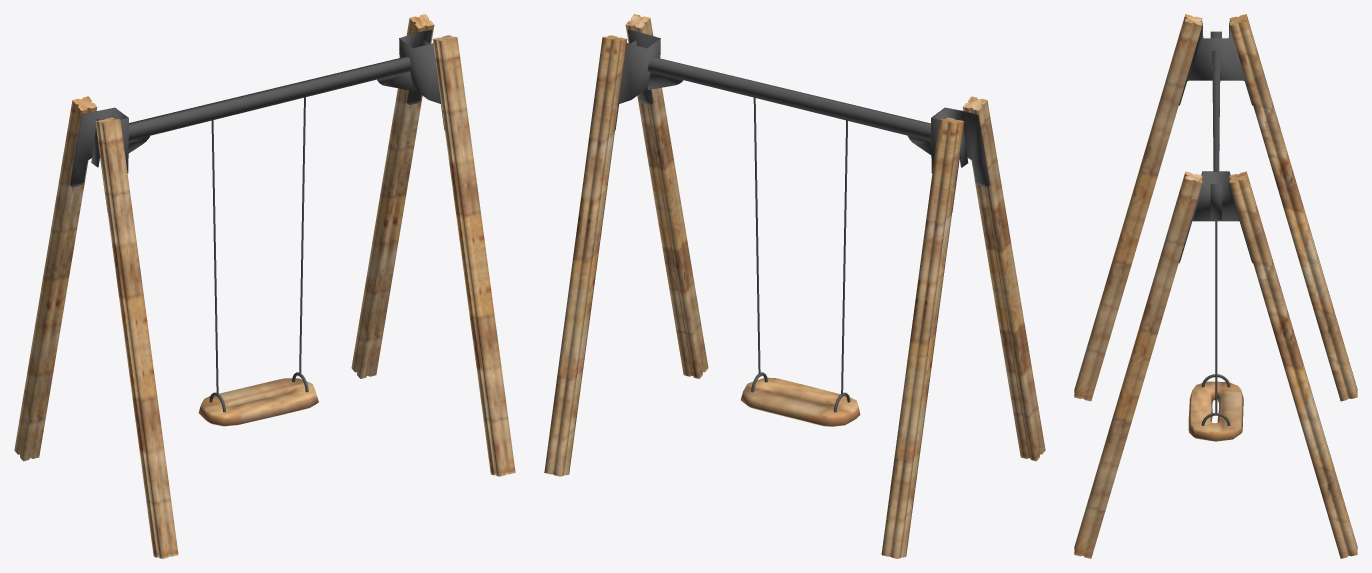
The model's file is swing.fbx.
3 renders of one model, left to right at view 1: azimuth 30°, elevation 25°; view 2: azimuth 150°, elevation 25°; view 3: azimuth 270°, elevation 25°, orthographic. The views are drawn at different scales.
Parts seen in each view (by area): view 1: swing; view 2: swing; view 3: swing.
Boxes of the visible parts, left/top/right/bottom form: swing: left=14, top=14, right=515, bottom=558; swing: left=544, top=14, right=1045, bottom=558; swing: left=1074, top=14, right=1357, bottom=558.
Bounding box in the file's own units: 203 × 218 × 148.
1 material, 1 textured.
